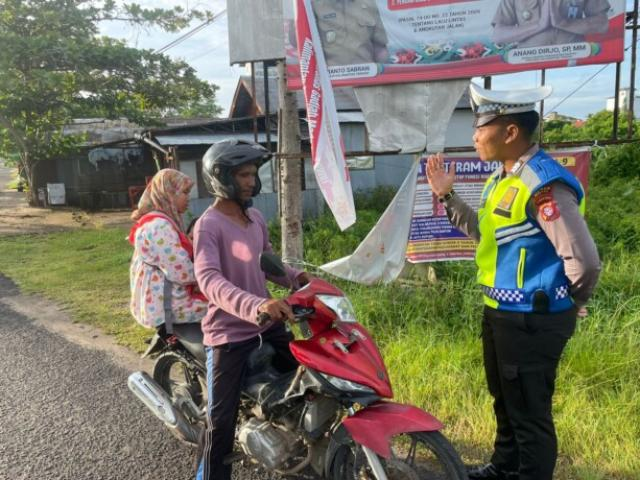helm: (203, 139, 274, 203)
motor: (137, 280, 468, 480)
non-helm: (152, 170, 196, 215)
